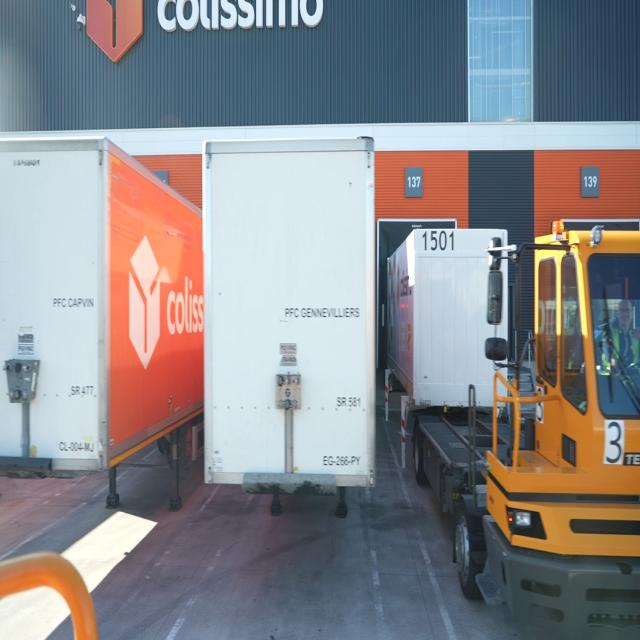Code: (419, 226, 458, 258)
